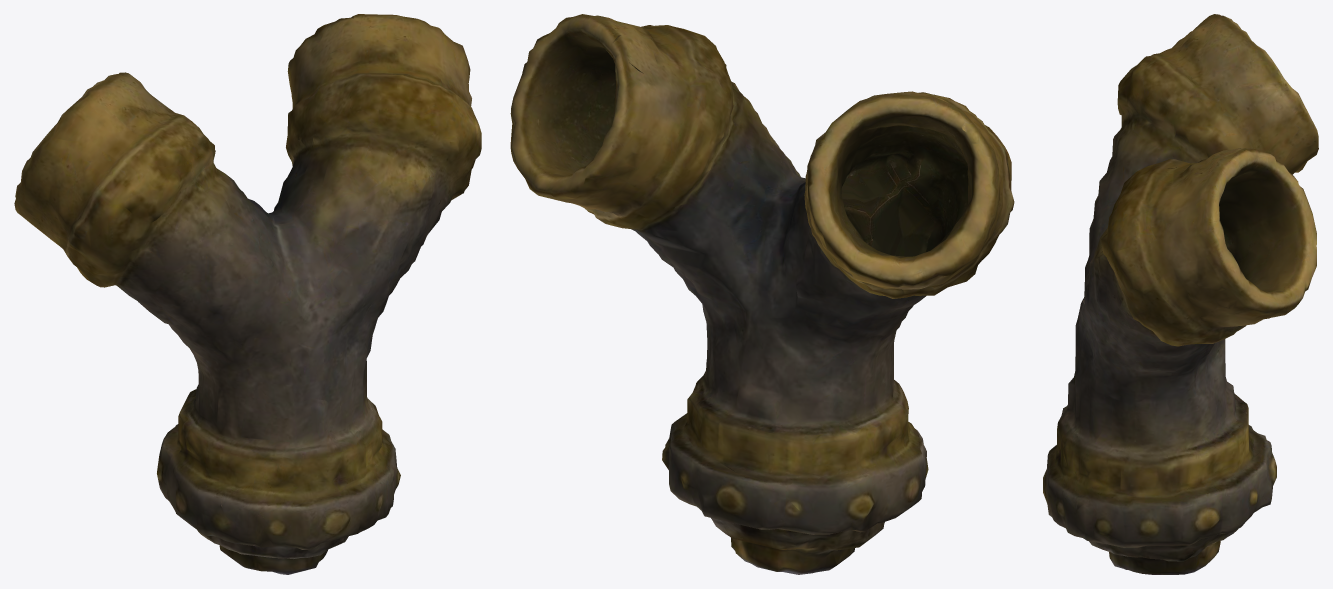
The picture shows the model from 3 angles, left to right: view 1: azimuth 30°, elevation 25°; view 2: azimuth 150°, elevation 25°; view 3: azimuth 270°, elevation 25°; orthographic projection. The views are drawn at different scales.
Parts seen in each view (by area): view 1: steampunk_y_pipe_splitter_baked; view 2: steampunk_y_pipe_splitter_baked; view 3: steampunk_y_pipe_splitter_baked.
Boxes of the visible parts, x1,y1,x2,y2 form: steampunk_y_pipe_splitter_baked: [14, 14, 481, 574]; steampunk_y_pipe_splitter_baked: [510, 14, 1014, 574]; steampunk_y_pipe_splitter_baked: [1043, 14, 1318, 574].
Size of the model in its own units: 0.1716 by 0.1797 by 0.0955.
1 material, 1 textured.
